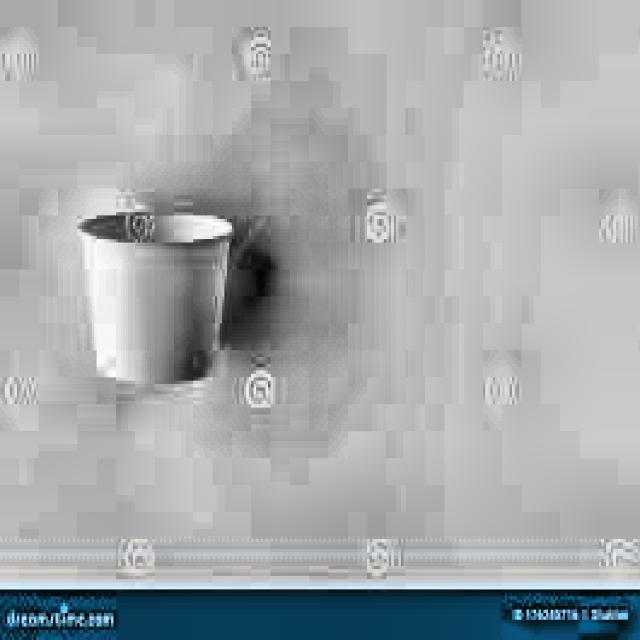Cup: (65, 186, 255, 422)
